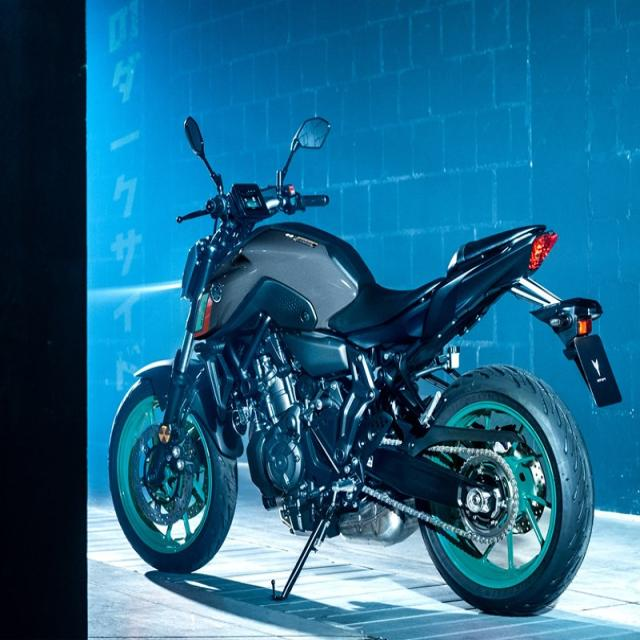Bike: (108, 115, 619, 619)
